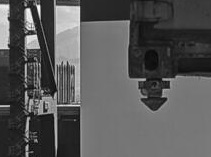Copy of Copy of twist_lock_2: (127, 72, 175, 119)
